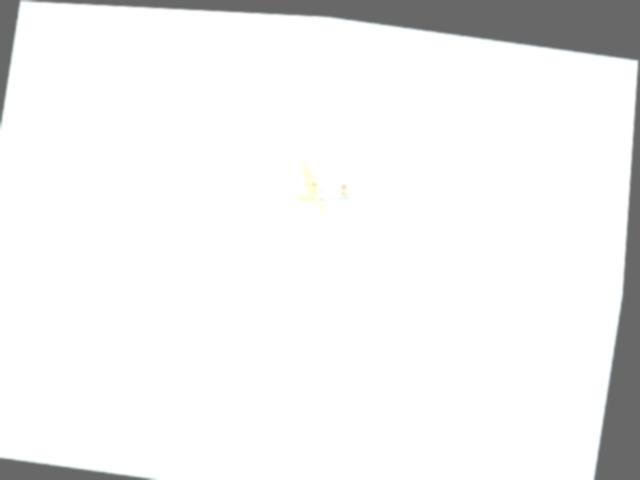iha: (281, 147, 366, 225)
